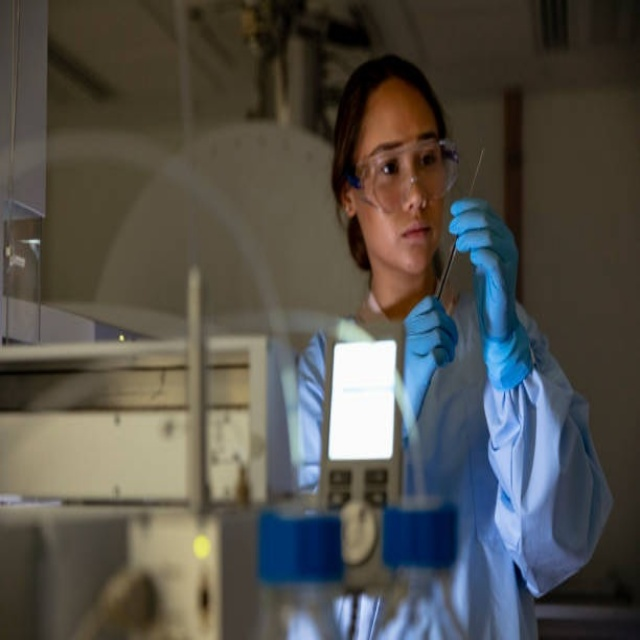Gafas: (346, 136, 459, 216)
Guantes: (448, 197, 533, 390), (400, 294, 458, 433)
Sin_mascara: (391, 220, 433, 267)
